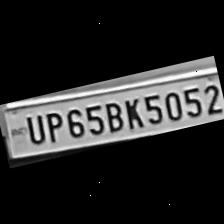0: (160, 88, 184, 124)
2: (198, 79, 224, 117)
5: (177, 82, 204, 120), (138, 90, 164, 127), (81, 100, 107, 136)
6: (60, 104, 86, 140)
B: (100, 98, 124, 134)
K: (118, 92, 144, 130)
P: (40, 107, 66, 144)
U: (20, 110, 46, 148)
